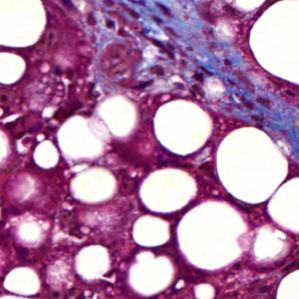steatosis: (248, 0, 299, 86), (153, 98, 214, 156), (139, 167, 196, 214), (0, 0, 46, 49)
